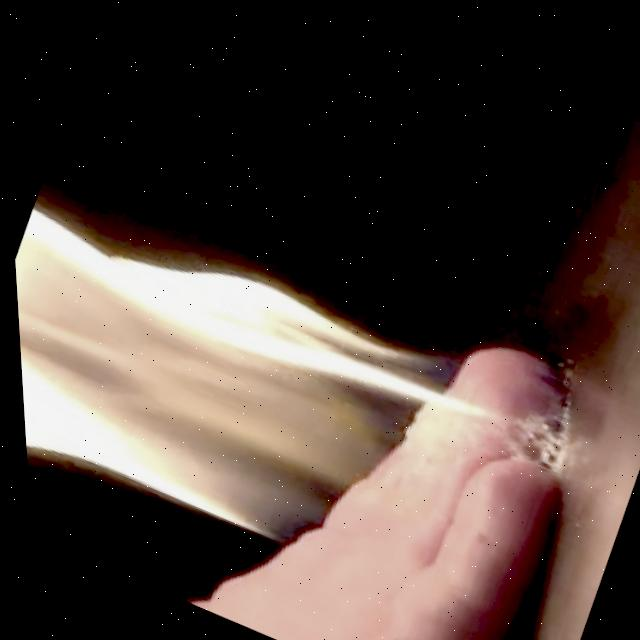Fire: (8, 178, 529, 640)
